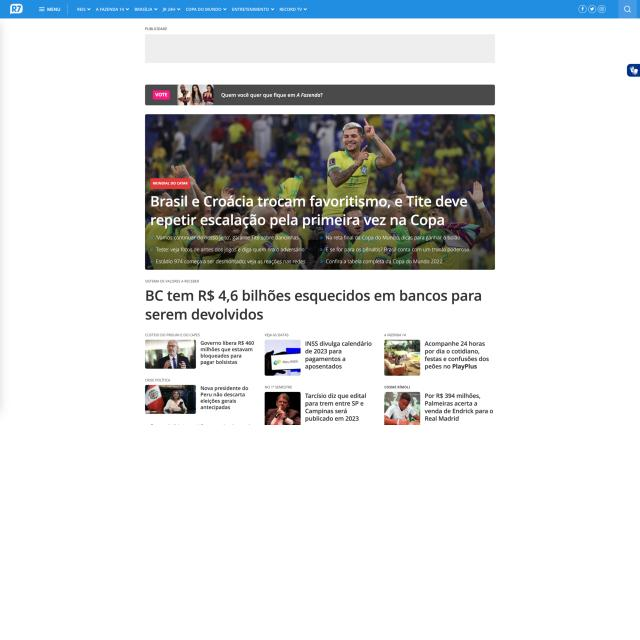CheckBox: (618, 0, 636, 18), (624, 62, 640, 80)
ImageView: (146, 26, 494, 64), (144, 84, 496, 106)
Input field: (422, 390, 496, 424), (304, 339, 372, 371), (304, 392, 368, 423), (424, 340, 489, 370), (199, 339, 257, 367), (200, 384, 249, 411)
RadioButton: (149, 178, 190, 190)
alert: (232, 6, 275, 13), (185, 6, 226, 13), (279, 6, 309, 13), (95, 7, 130, 12), (134, 6, 158, 12), (161, 7, 181, 13), (76, 7, 92, 12)
card: (144, 113, 496, 270)
carousel: (629, 65, 638, 76)
copy: (144, 384, 197, 414), (145, 340, 196, 369), (264, 339, 301, 376), (384, 339, 421, 376), (264, 392, 301, 426), (384, 392, 421, 426)
date picker: (8, 3, 24, 16)
decoration: (75, 5, 310, 15), (38, 5, 62, 14)
image: (146, 288, 484, 324)
